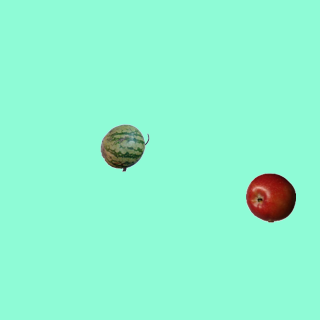Apple Braeburn: (245, 172, 295, 222)
Watermelon: (99, 122, 149, 172)
